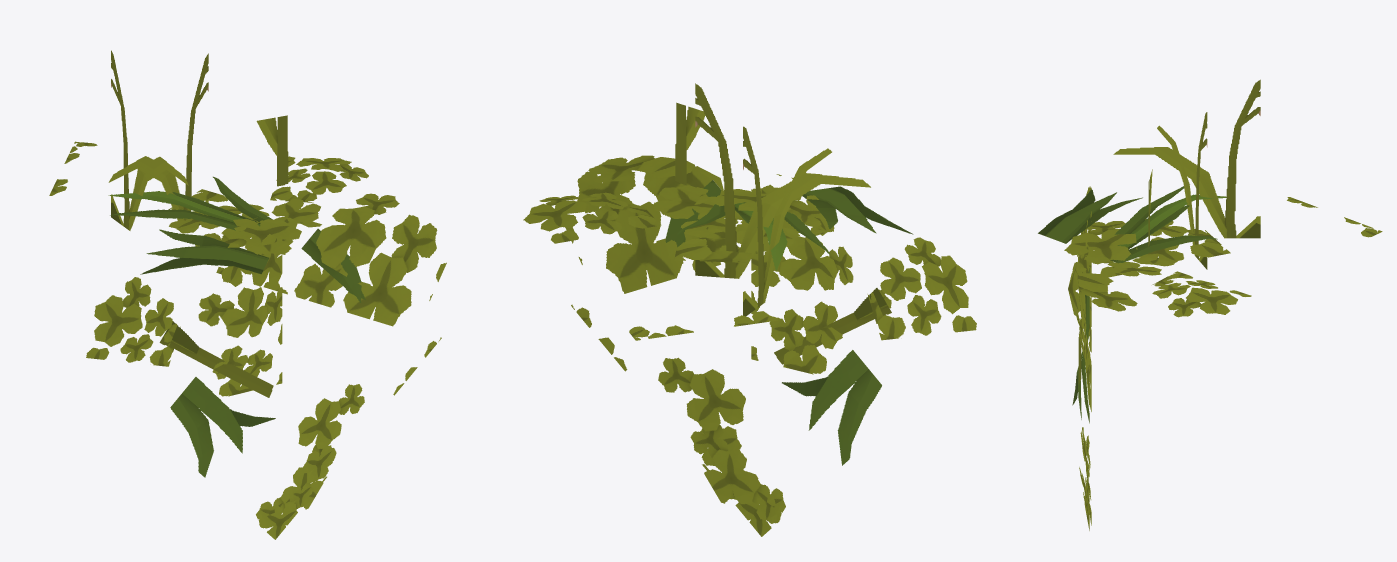
File: SM_Env_Ground_Cover_07.fbx
The picture shows the model from 3 angles, left to right: view 1: azimuth 30°, elevation 25°; view 2: azimuth 150°, elevation 25°; view 3: azimuth 270°, elevation 25°; orthographic projection. The views are drawn at different scales.
Parts seen in each view (by area): view 1: SM_Env_Ground_Cover_07; view 2: SM_Env_Ground_Cover_07; view 3: SM_Env_Ground_Cover_07.
Part boxes in pixels (<box>): SM_Env_Ground_Cover_07: <box>49,50,446,539</box>; SM_Env_Ground_Cover_07: <box>523,83,976,536</box>; SM_Env_Ground_Cover_07: <box>1038,79,1382,530</box>.
Size of the model in its own units: 155 by 170 by 124.
